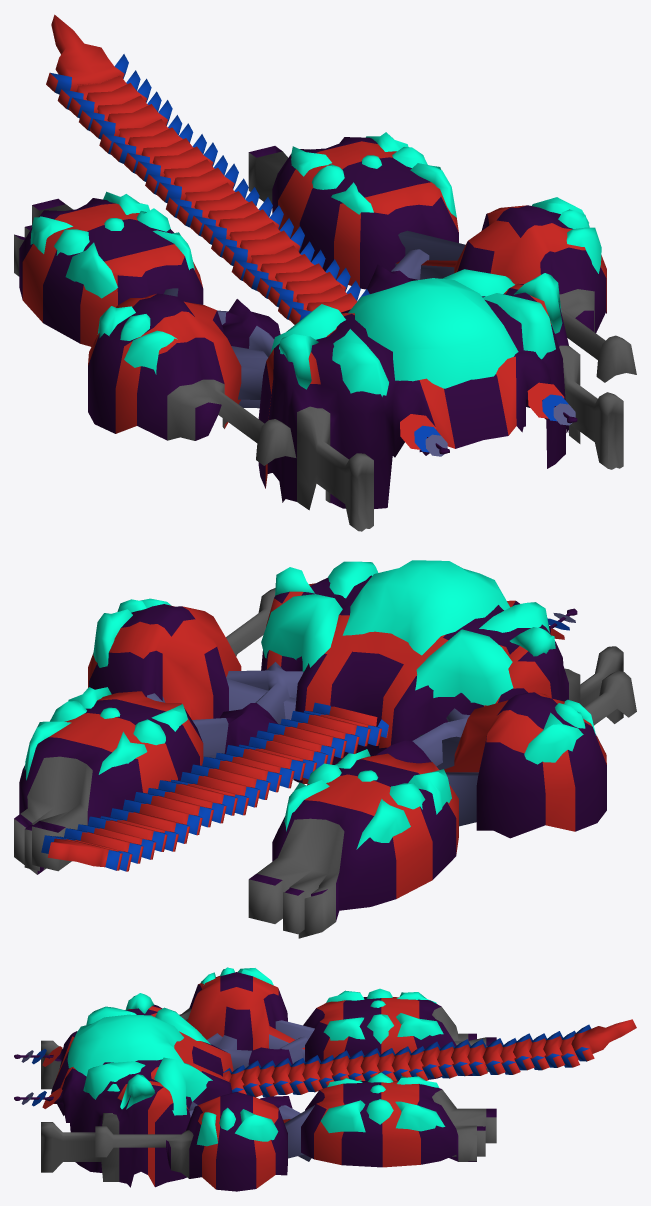
The model's file is emeny4tris.fbx.
3 renders of one model, top to bottom at view 1: azimuth 30°, elevation 25°; view 2: azimuth 150°, elevation 25°; view 3: azimuth 270°, elevation 25°, orthographic. The views are drawn at different scales.
Visible parts, largest first — view 1: Cube.002; view 2: Cube.002; view 3: Cube.002.
Boxes of the visible parts, x1,y1,x2,y2 form: Cube.002: (14,14,636,531); Cube.002: (14,560,636,938); Cube.002: (14,967,636,1191).
Size of the model in its own units: 899 by 312 by 1429.
